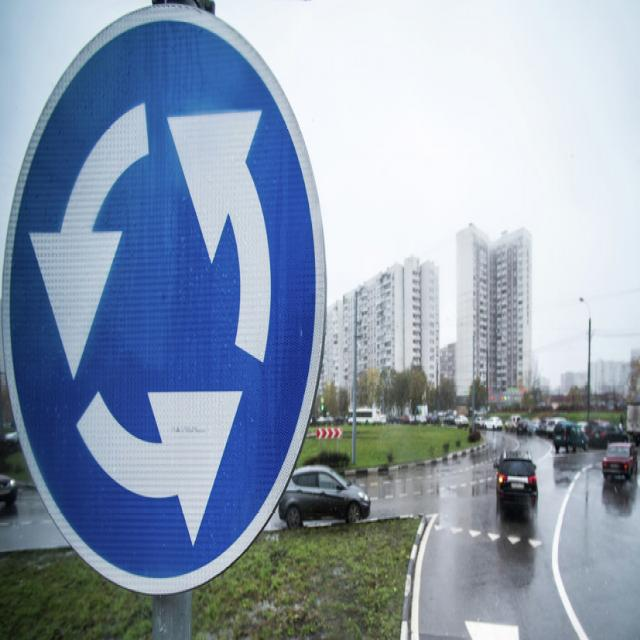roundabout: (0, 0, 329, 601)
